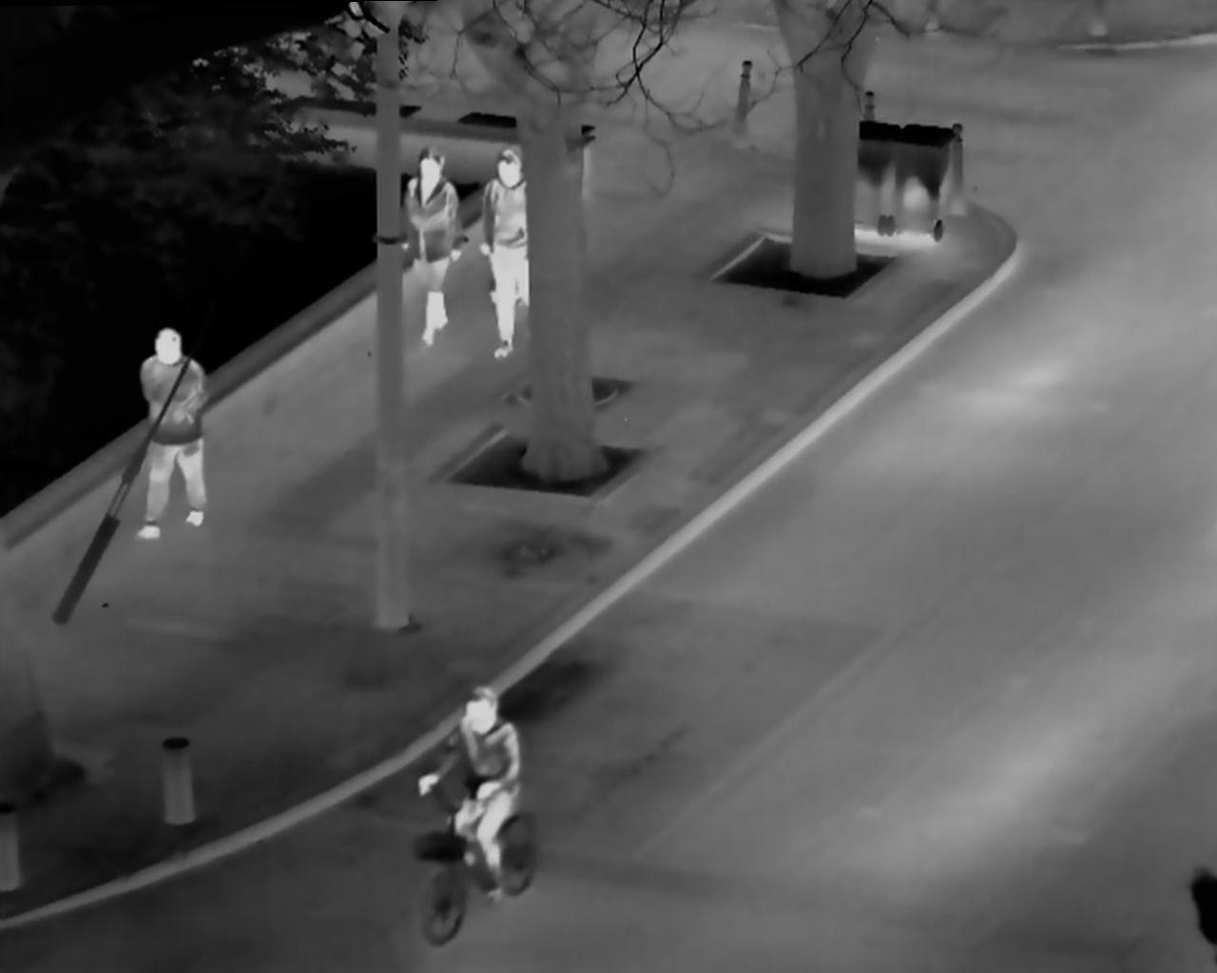person: (413, 674, 533, 910), (128, 319, 217, 548), (389, 126, 466, 352), (476, 135, 549, 358)
